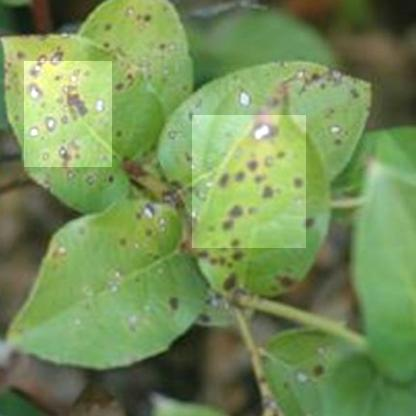black-spot: (192, 115, 306, 248), (24, 61, 112, 167)
